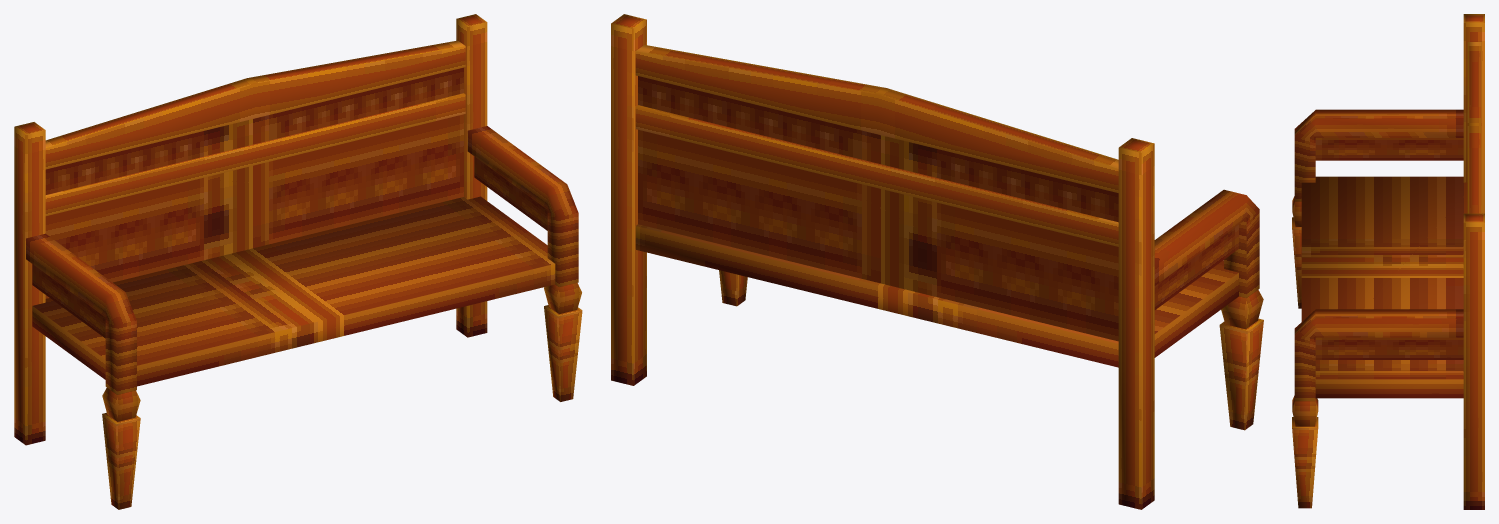
File: rmk_asi_chairL.dae
3 views of the same model, side by side, from view 1: azimuth 30°, elevation 25°; view 2: azimuth 150°, elevation 25°; view 3: azimuth 270°, elevation 25° (orthographic). The views are drawn at different scales.
Visible parts, largest first — view 1: rmk_asi_chairL; view 2: rmk_asi_chairL; view 3: rmk_asi_chairL.
Boxes of the visible parts, <box> form: rmk_asi_chairL: <box>14,14,582,509</box>; rmk_asi_chairL: <box>611,14,1263,509</box>; rmk_asi_chairL: <box>1292,14,1484,509</box>.
Bounding box in the file's own units: 56.57 × 36 × 21.89.
Materials: 1 (1 with a texture image).
